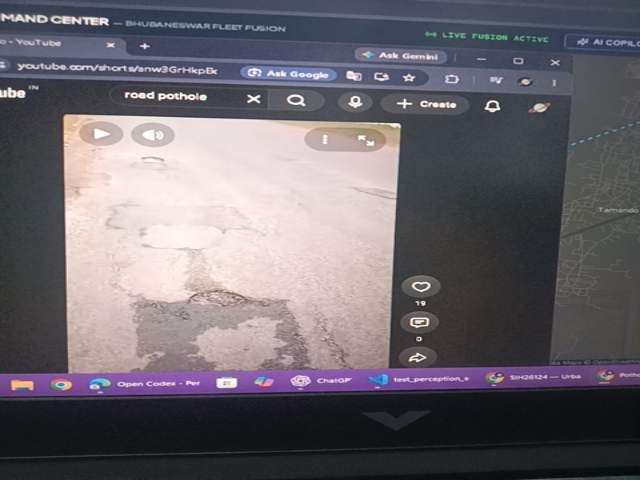pothole: (105, 404, 314, 480), (535, 403, 640, 480)
